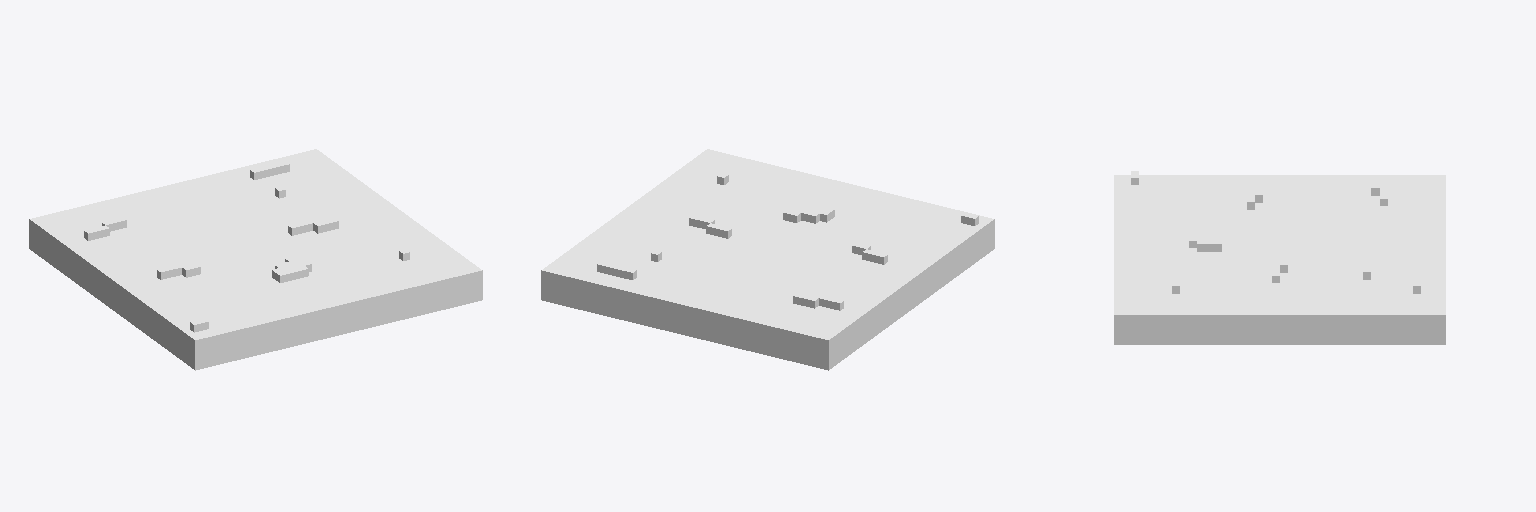
The model's file is GrassNoBorder_0.obj.
The picture shows the model from 3 angles: view 1: azimuth 30°, elevation 25°; view 2: azimuth 150°, elevation 25°; view 3: azimuth 270°, elevation 25°; orthographic projection.
Parts seen in each view (by area): view 1: GrassNoBorder_0; view 2: GrassNoBorder_0; view 3: GrassNoBorder_0.
Part boxes in pixels (x1,y1,x2,y2): GrassNoBorder_0: (29, 149, 482, 370); GrassNoBorder_0: (541, 149, 994, 370); GrassNoBorder_0: (1114, 171, 1445, 344).
Bounding box in the file's own units: 40 × 5 × 40.